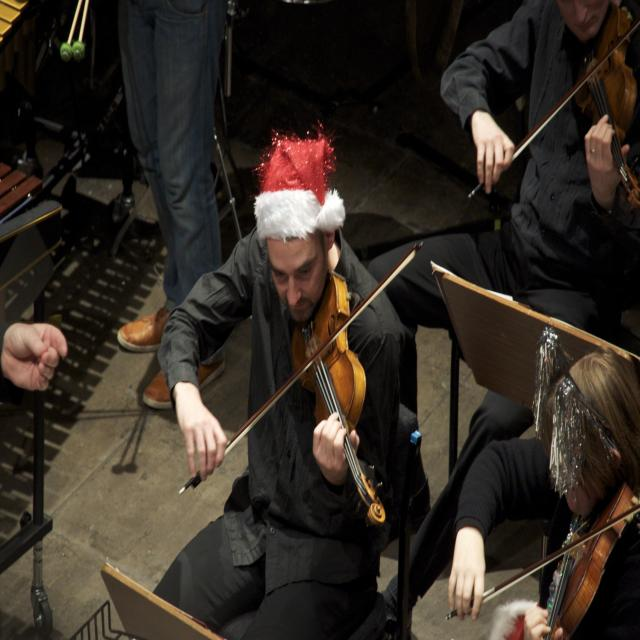violin: (287, 271, 388, 526), (534, 481, 639, 640), (563, 3, 640, 208)
